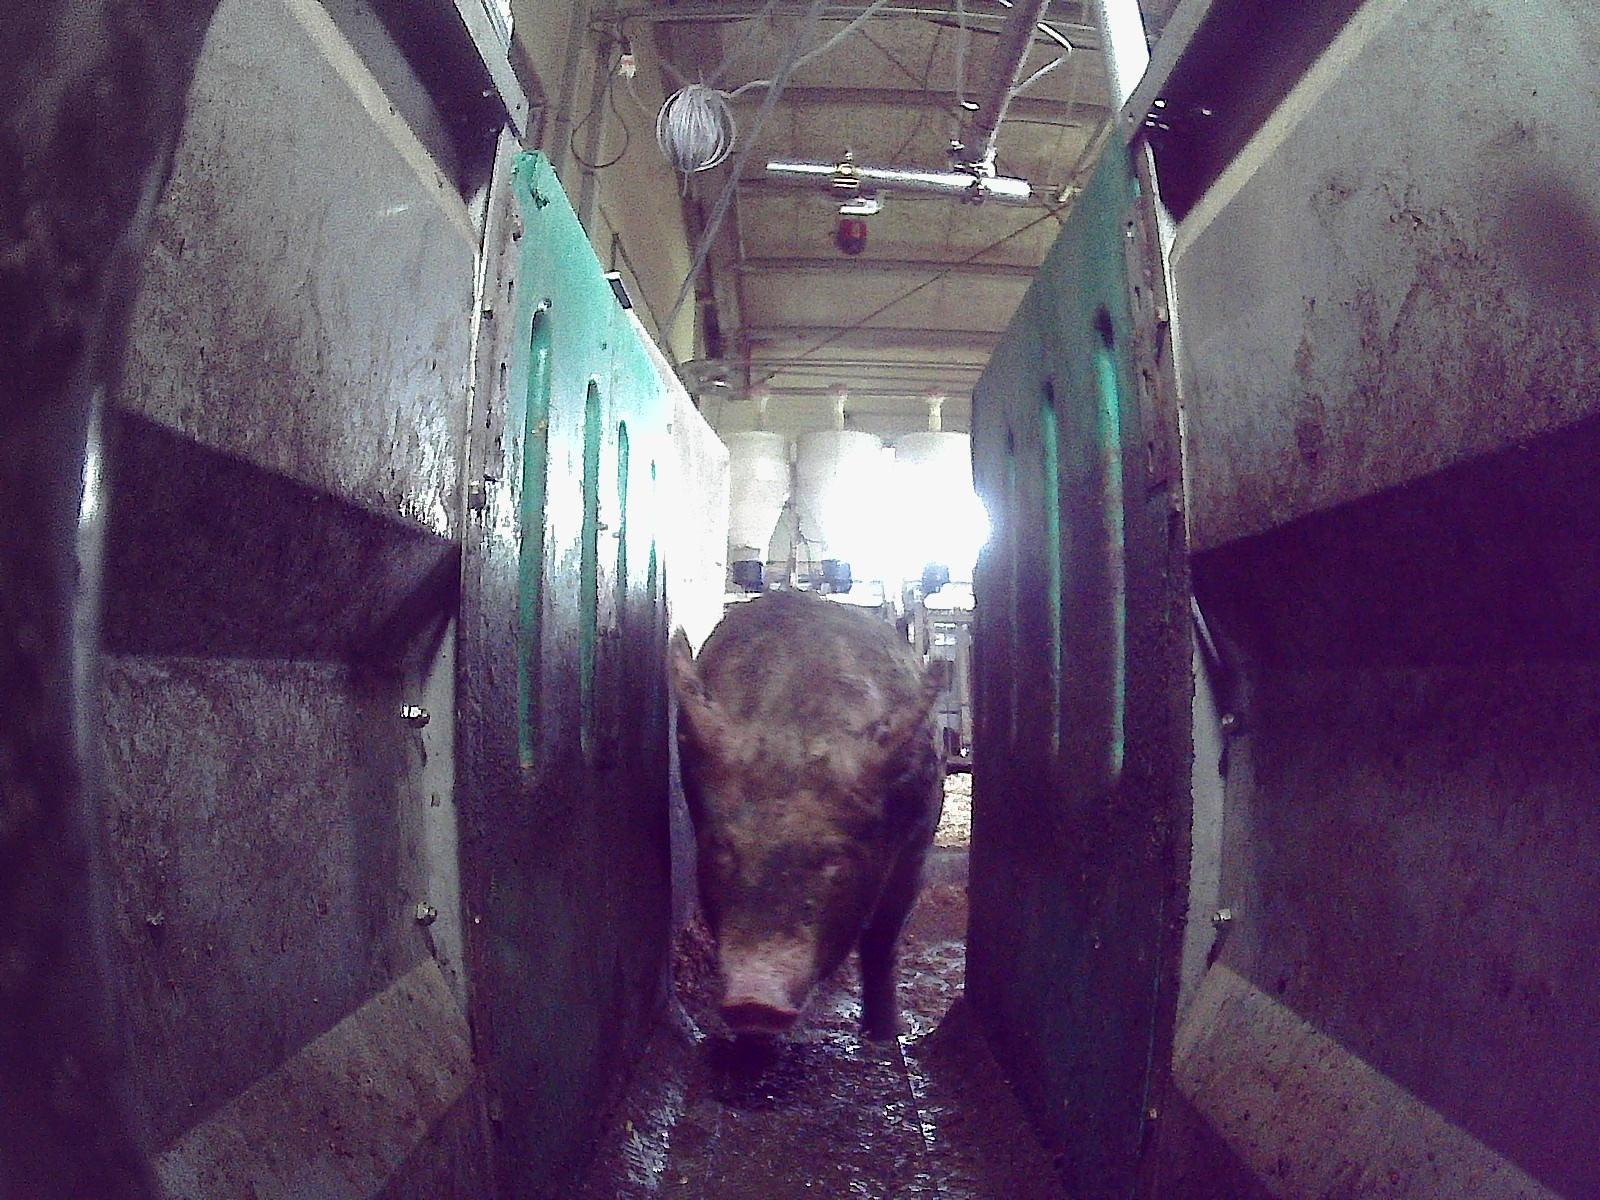Face: (692, 732, 881, 1030)
